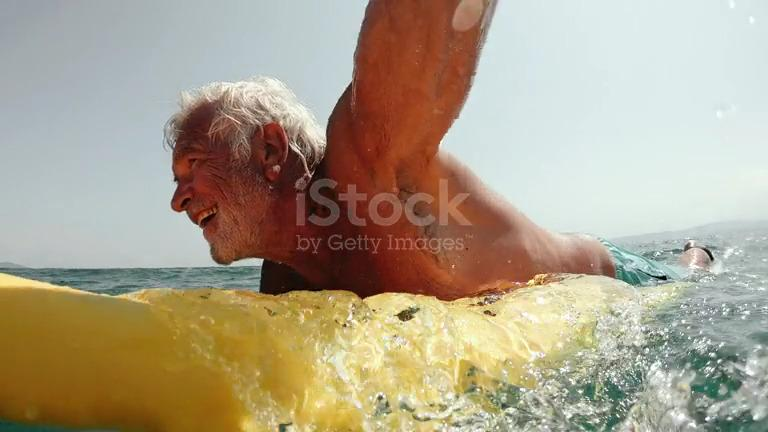Swimming: (40, 16, 711, 356)
